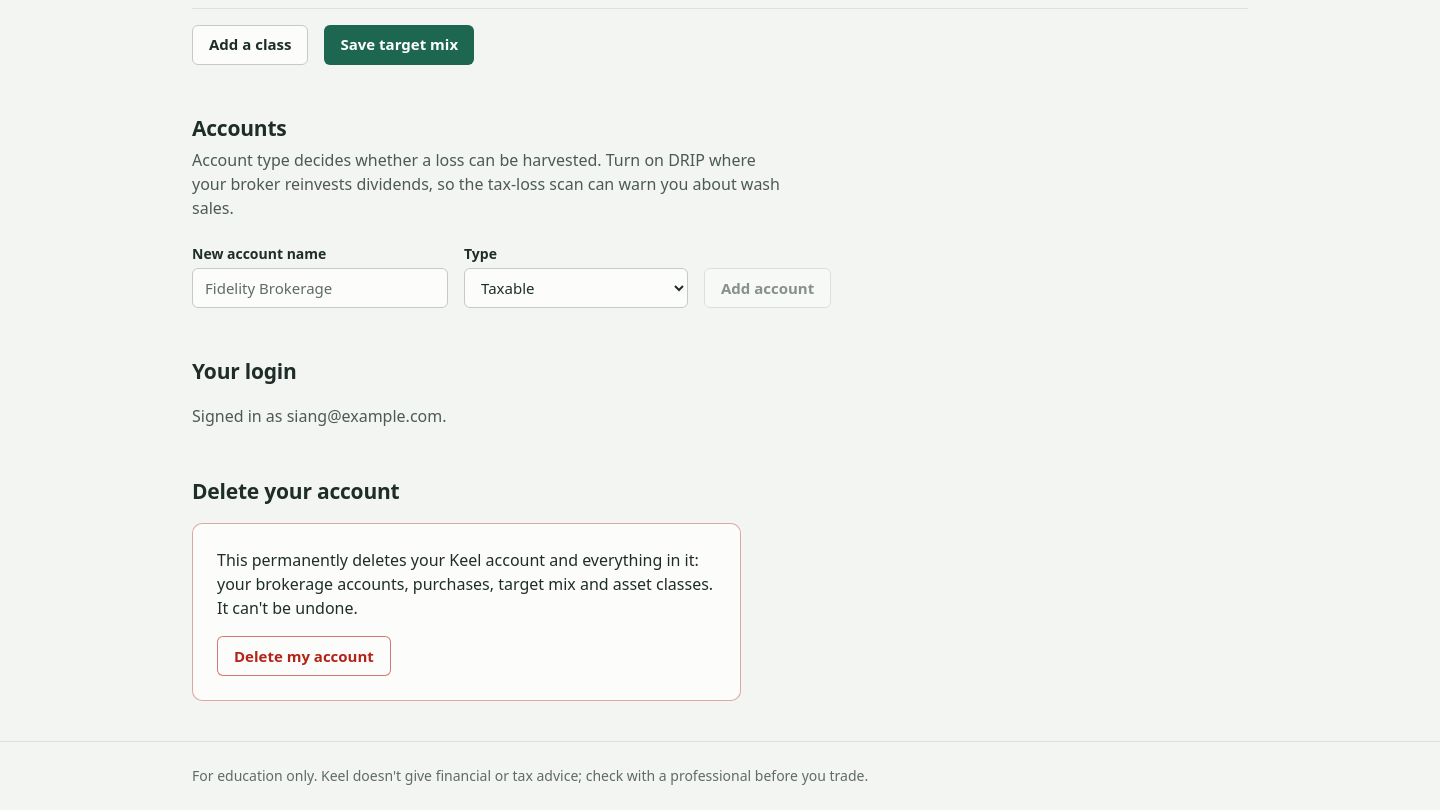
Test case: delete my account › "Keep my account" closes the confirmation without deleting
The image size is (1440, 810).
(page scrolled)
Click the button "Delete my account". click: (304, 656)
box: [217,636,391,676]
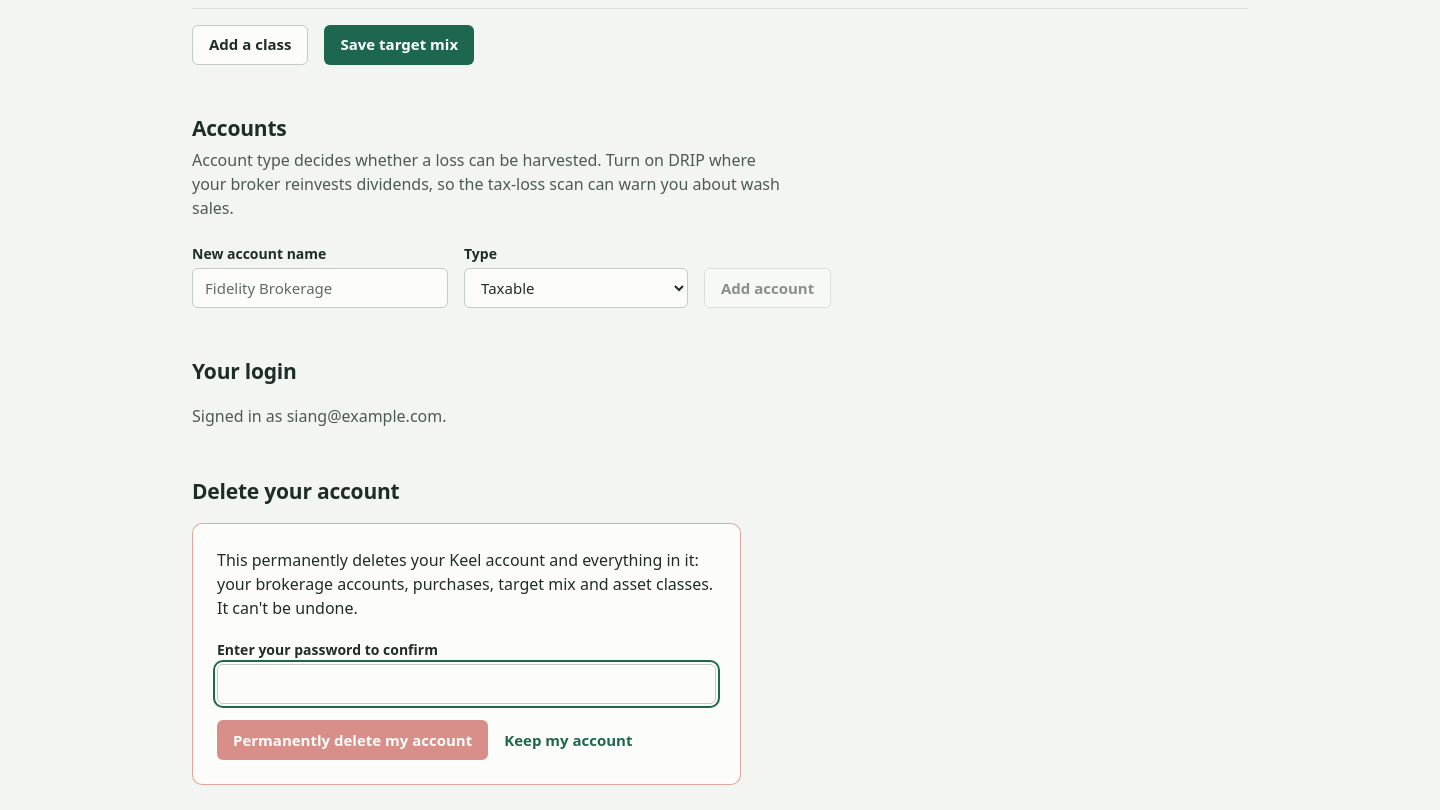
Click the button "Keep my account". click: (568, 740)
box: [504,727,632,753]
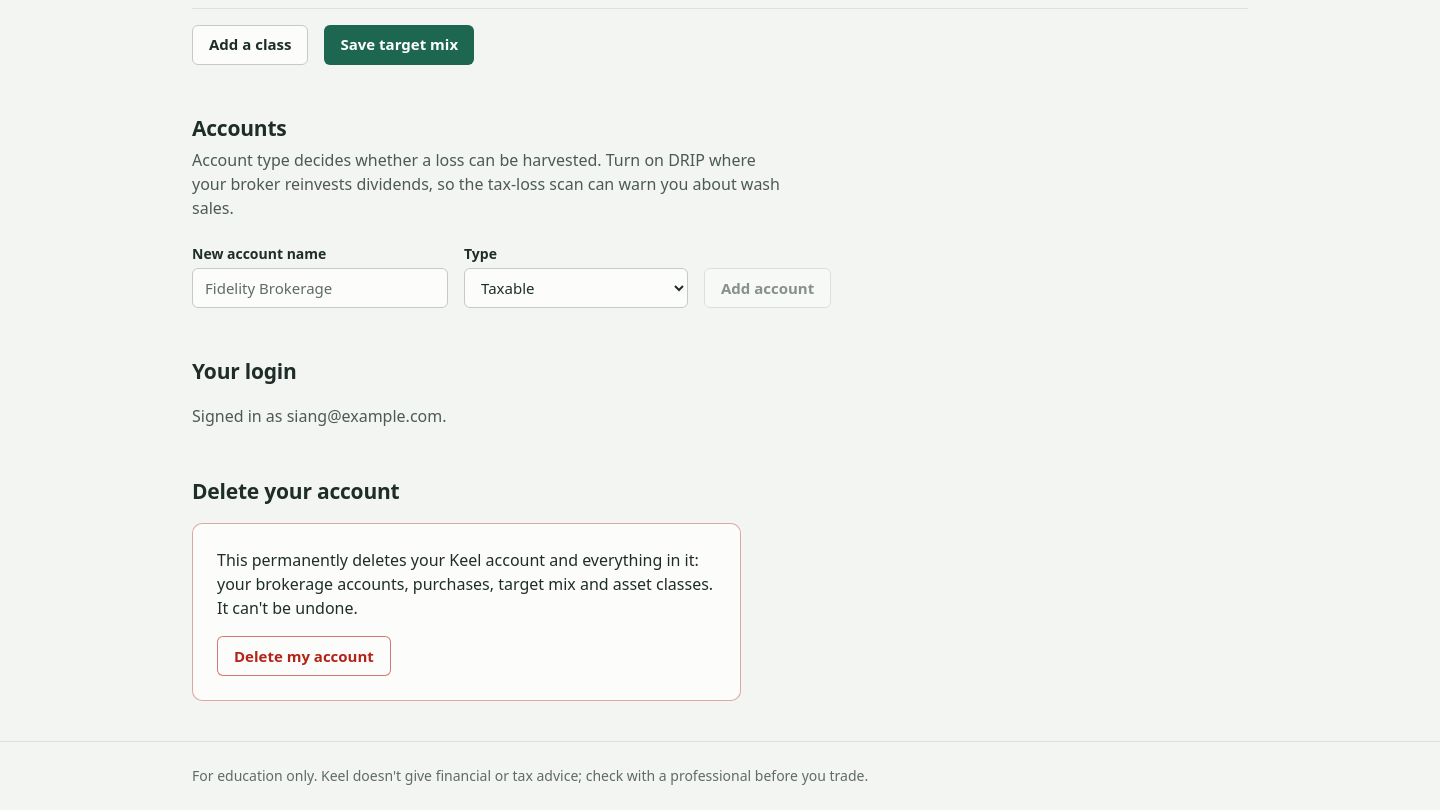
Expected: the label labelled "Enter your password to confirm" is gone
